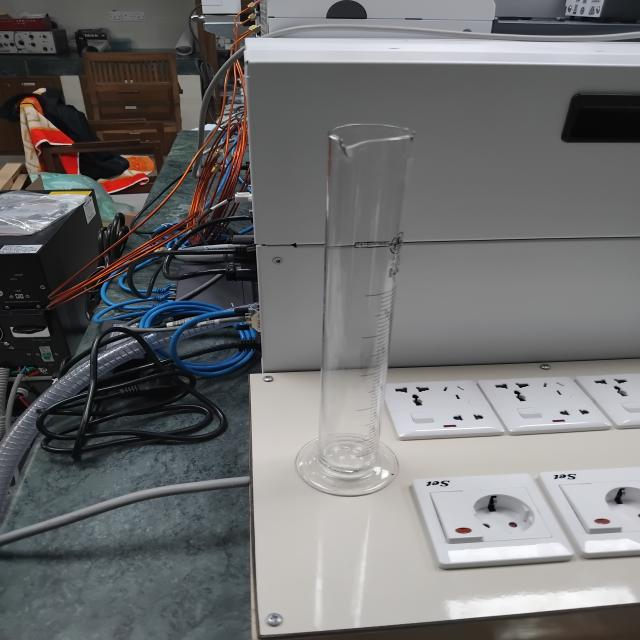Measuring_Cylinder: (276, 83, 438, 516)
